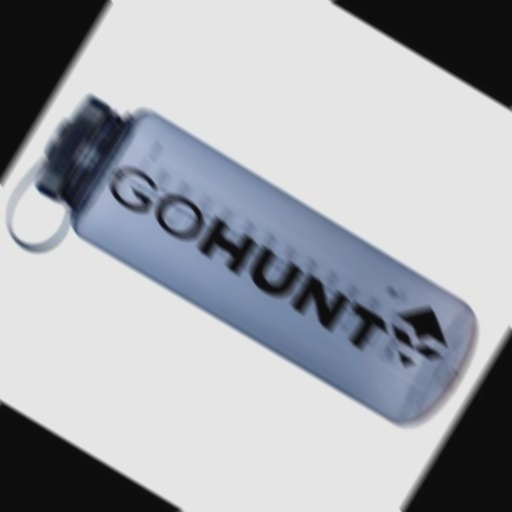bottle: (0, 59, 506, 488)
